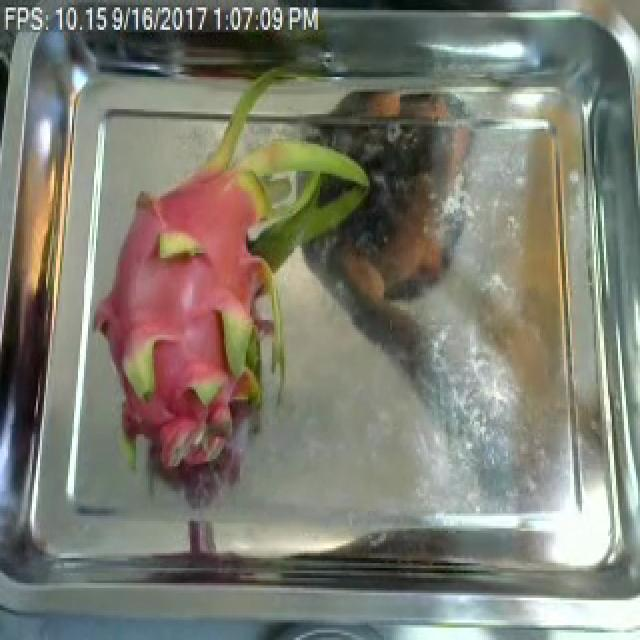fruit: (60, 74, 376, 503)
